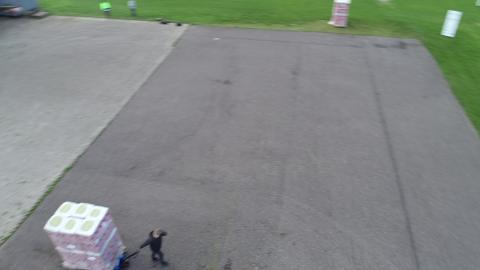RockwoolPallet: (43, 200, 126, 270)
